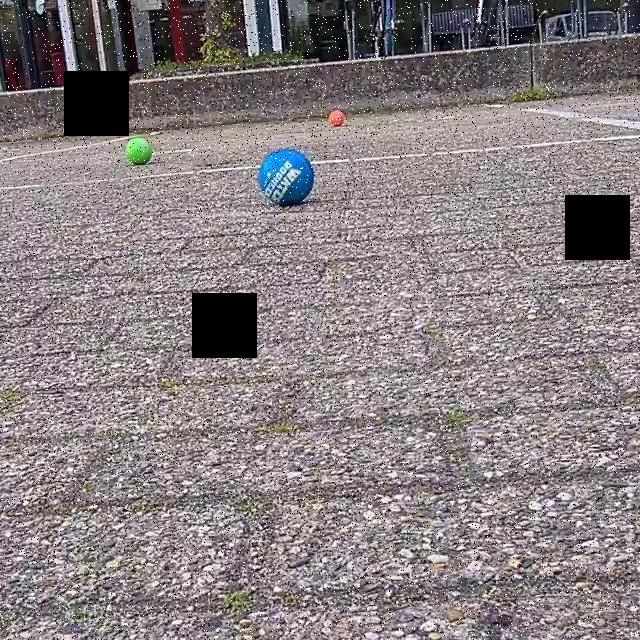ball: (122, 135, 154, 165), (327, 107, 348, 129)
